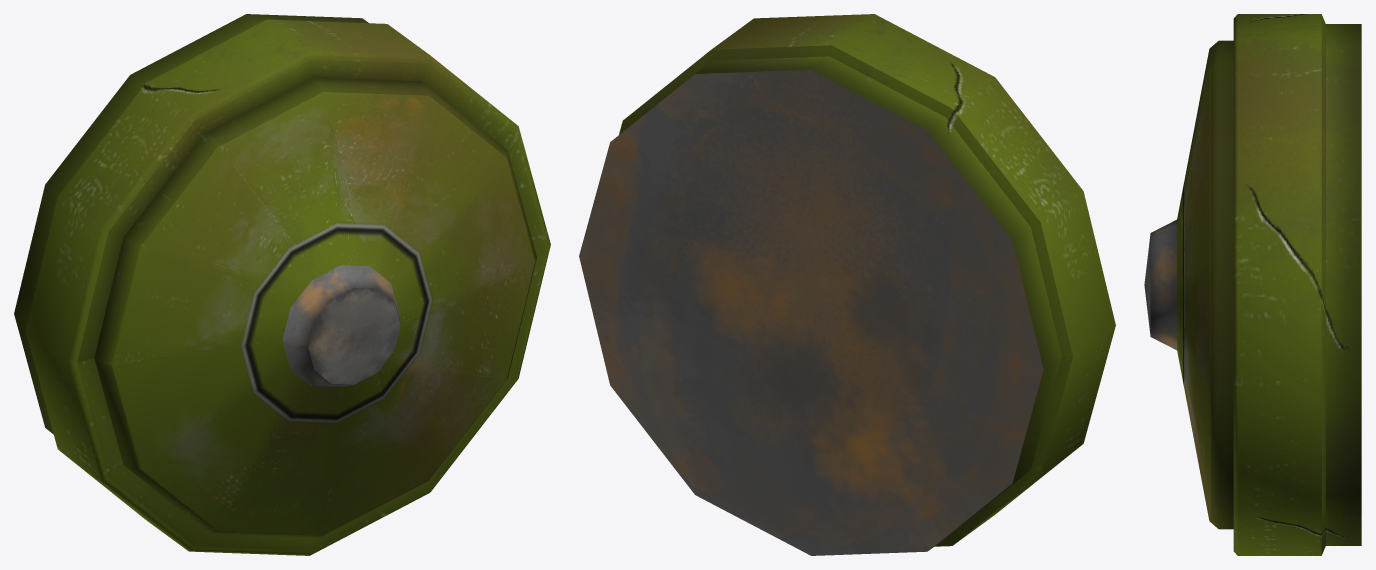
File: Mine.obj
The picture shows the model from 3 angles, left to right: view 1: azimuth 30°, elevation 25°; view 2: azimuth 150°, elevation 25°; view 3: azimuth 270°, elevation 25°; orthographic projection. The views are drawn at different scales.
Visible parts, largest first — view 1: Cylinder; view 2: Cylinder; view 3: Cylinder.
Part boxes in pixels (x1,y1,x2,y2): Cylinder: (14,14,550,555); Cylinder: (579,14,1115,555); Cylinder: (1144,14,1361,555).
Size of the model in its own units: 2.11 by 2.11 by 0.8441.
Materials: 1 (1 with a texture image).
